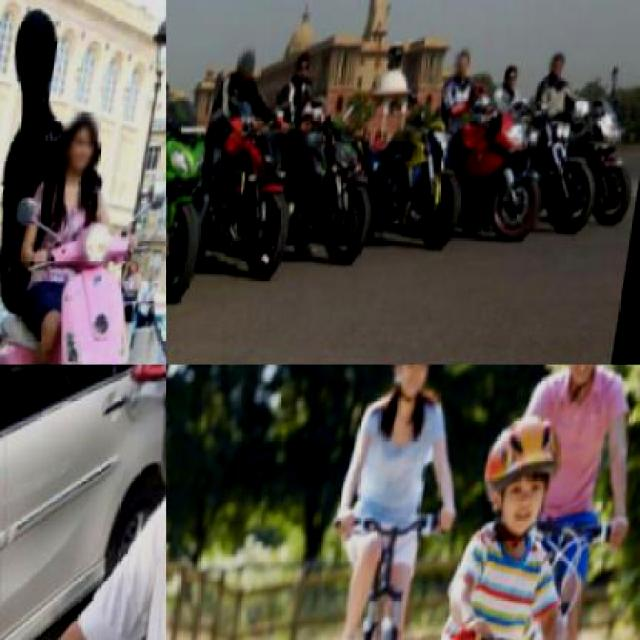With Helmet: (478, 409, 576, 554), (108, 365, 164, 549), (382, 365, 451, 412), (552, 365, 618, 406)
Without Helmet: (59, 115, 107, 187), (294, 51, 317, 94), (238, 49, 262, 88), (454, 52, 474, 90), (506, 70, 526, 101), (552, 58, 570, 85)
